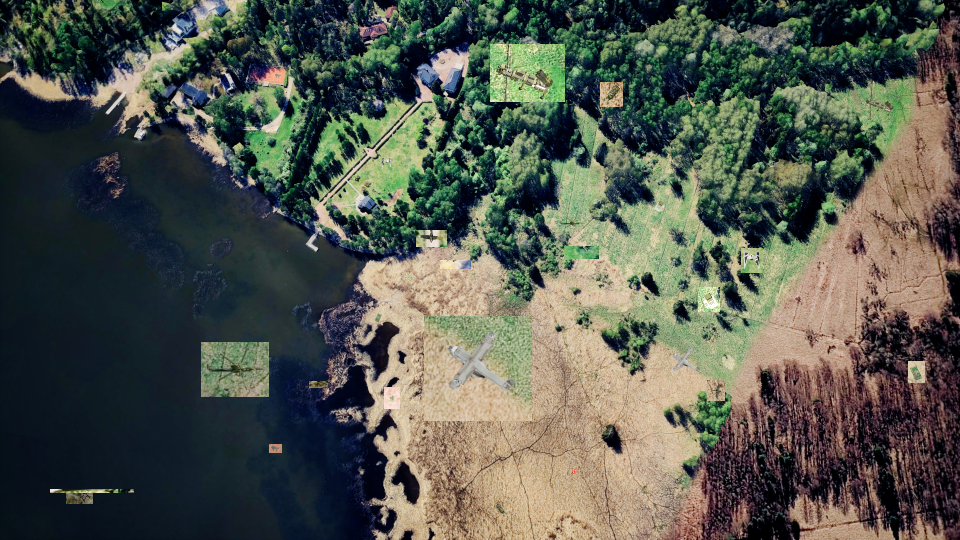condor: (424, 316, 532, 421)
hangar: (50, 489, 134, 493)
helicopter: (201, 342, 269, 397)
jammer: (908, 361, 925, 383)
jet_plane: (564, 246, 599, 259)
large_launcher: (490, 44, 565, 102)
large_tower: (66, 492, 93, 504)
medium_launcher: (309, 381, 328, 388)
medium_plane: (416, 230, 447, 247)
mine_roller: (600, 82, 623, 107)
small_launcher: (384, 387, 400, 409)
small_plane: (707, 380, 725, 401)
small_tower: (698, 287, 720, 312)
spacecraft: (741, 248, 763, 273)
ta-ta: (269, 444, 282, 453)
tank: (440, 260, 471, 269)
